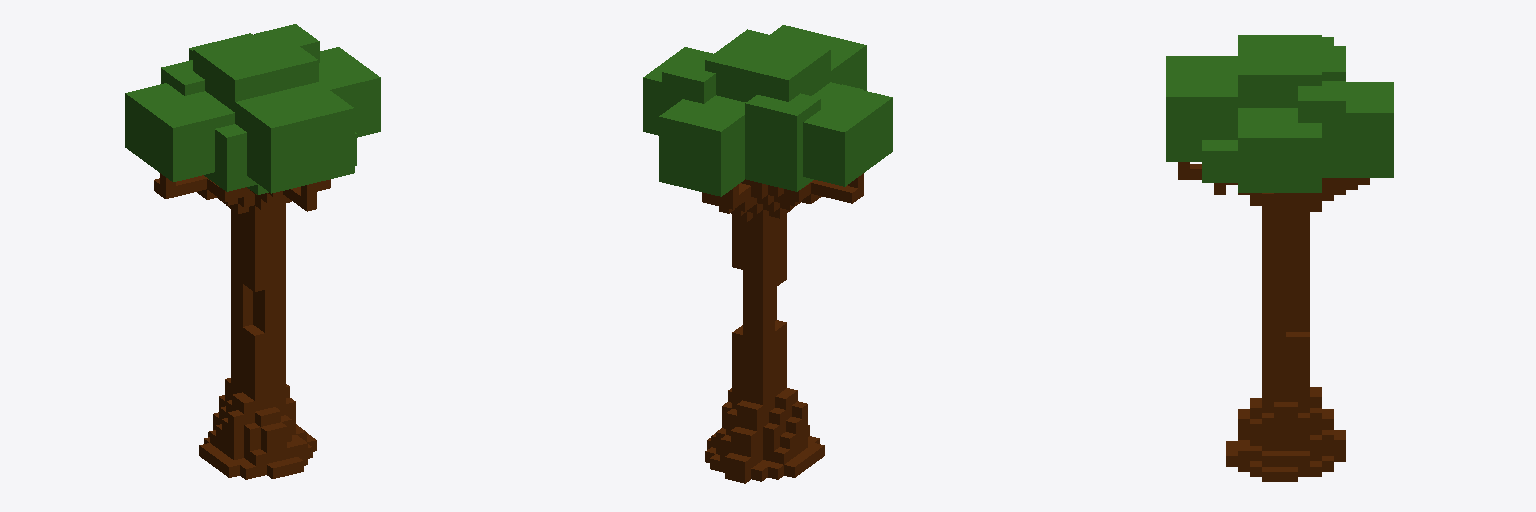
3 views of the same model, side by side, from view 1: azimuth 30°, elevation 25°; view 2: azimuth 150°, elevation 25°; view 3: azimuth 270°, elevation 25° (orthographic).
Visible parts, largest first — view 1: object 1; view 2: object 1; view 3: object 1.
Boxes of the visible parts, x1=… form: object 1: x1=125, y1=24, x2=380, y2=479; object 1: x1=643, y1=25, x2=892, y2=483; object 1: x1=1166, y1=35, x2=1393, y2=481.
Size of the model in its own units: 2 by 3.7 by 1.9.
1 materials, 1 textured.